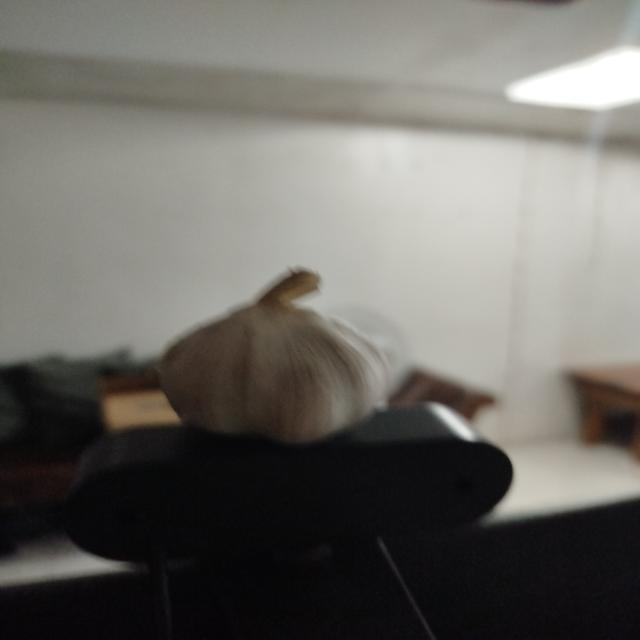garlic: (119, 255, 434, 450)
